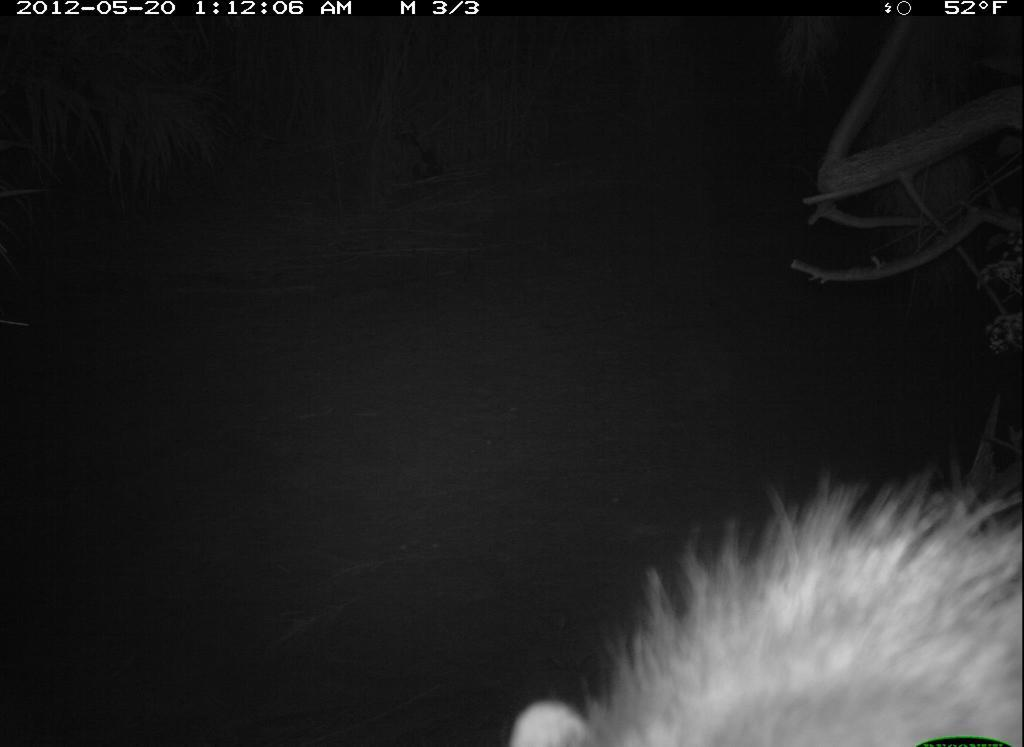raccoon: (502, 433, 1021, 747)
